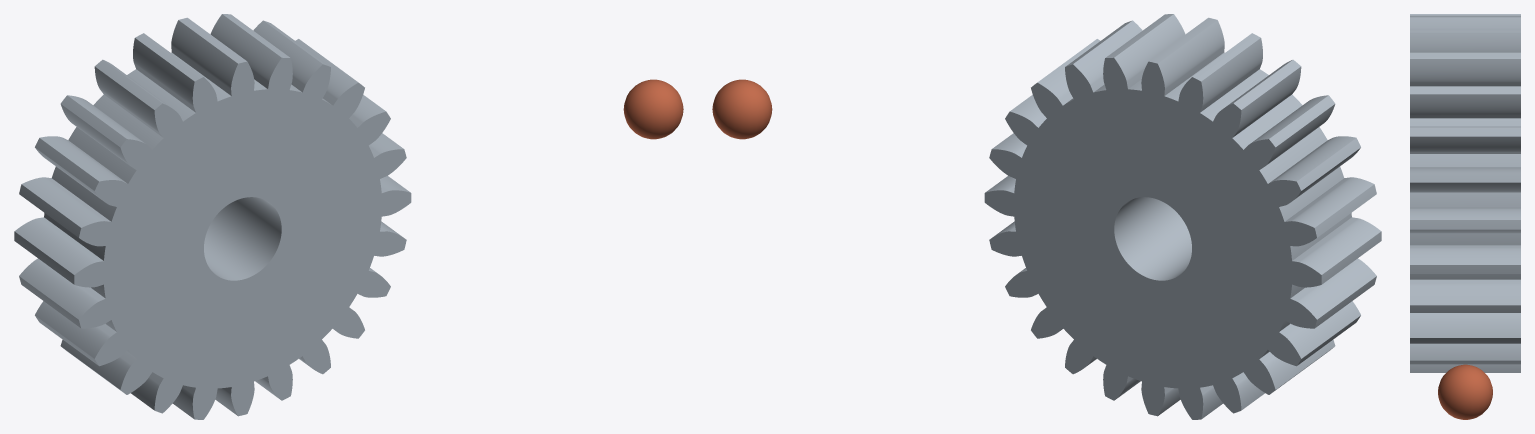
File: morphloom-project.glb
3 views of the same model, side by side, from view 1: azimuth 30°, elevation 25°; view 2: azimuth 150°, elevation 25°; view 3: azimuth 270°, elevation 25° (orthographic). The views are drawn at different scales.
Parts seen in each view (by area): view 1: spur_gear, preserved_sphere; view 2: spur_gear, preserved_sphere; view 3: spur_gear, preserved_sphere.
Boxes of the visible parts, bbox=[...] form: spur_gear: bbox=[14, 14, 411, 419]; preserved_sphere: bbox=[623, 79, 683, 139]; spur_gear: bbox=[984, 14, 1381, 419]; preserved_sphere: bbox=[712, 79, 772, 139]; spur_gear: bbox=[1410, 14, 1520, 372]; preserved_sphere: bbox=[1438, 364, 1492, 419].
Bounding box in the file's own units: 0.049 × 0.026 × 0.008.
